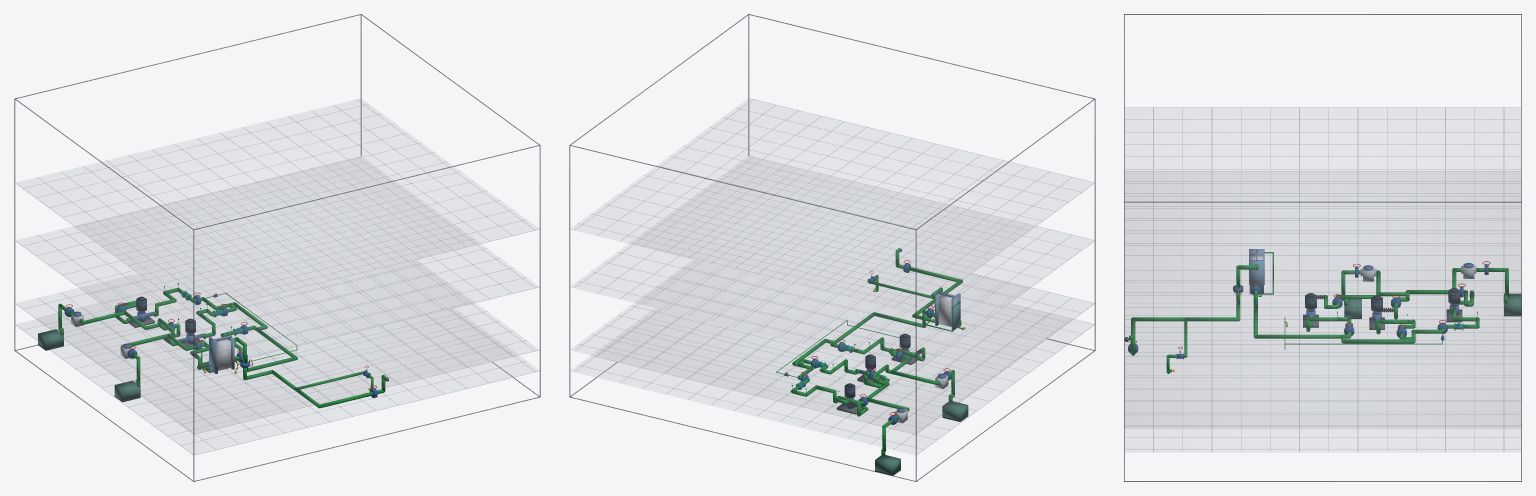
The picture shows the model from 3 angles, left to right: view 1: azimuth 30°, elevation 25°; view 2: azimuth 150°, elevation 25°; view 3: azimuth 270°, elevation 25°; orthographic projection. The views are drawn at different scales.
Parts seen in each view (by area): view 1: deck_2nd_deck__plate, deck_floor__plate, deck_3rd_deck__plate, deck_tank_top__plate, engine_room_outline__outline, deck_2nd_deck__grid, deck_floor__grid, deck_3rd_deck__grid; view 2: deck_2nd_deck__plate, deck_floor__plate, deck_3rd_deck__plate, deck_tank_top__plate, engine_room_outline__outline, deck_2nd_deck__grid, deck_3rd_deck__grid, deck_floor__grid, deck_tank_top__grid; view 3: deck_2nd_deck__plate, deck_floor__plate, deck_3rd_deck__plate, deck_tank_top__plate, engine_room_outline__outline, deck_2nd_deck__grid, 350A-SW-021-3S_p40__pipe, plate_heat_exchanger_o37__frame.
Part boxes in pixels (x1,y1,x2,y2): deck_2nd_deck__plate: (17,99,537,312); deck_floor__plate: (16,288,538,432); deck_3rd_deck__plate: (17,227,538,369); deck_tank_top__plate: (16,320,538,453); engine_room_outline__outline: (14,14,540,481); deck_2nd_deck__grid: (17,101,535,311); deck_floor__grid: (16,261,535,433); deck_3rd_deck__grid: (16,160,533,370); deck_2nd_deck__plate: (571,99,1092,312); deck_floor__plate: (571,288,1092,433); deck_3rd_deck__plate: (571,227,1092,370); deck_tank_top__plate: (571,320,1092,454); engine_room_outline__outline: (569,14,1095,481); deck_2nd_deck__grid: (575,99,1092,311); deck_3rd_deck__grid: (576,160,1094,370); deck_floor__grid: (576,261,1094,433); deck_tank_top__grid: (576,308,1094,454); deck_2nd_deck__plate: (1125,108,1520,294); deck_floor__plate: (1125,360,1520,428); deck_3rd_deck__plate: (1125,296,1520,358); deck_tank_top__plate: (1125,430,1520,451); engine_room_outline__outline: (1124,14,1521,481); deck_2nd_deck__grid: (1153,107,1504,294); 350A-SW-021-3S_p40__pipe: (1253,289,1342,338); plate_heat_exchanger_o37__frame: (1249,249,1264,294).
Bounding box in the file's own units: 38.06 × 26.46 × 34.06.
